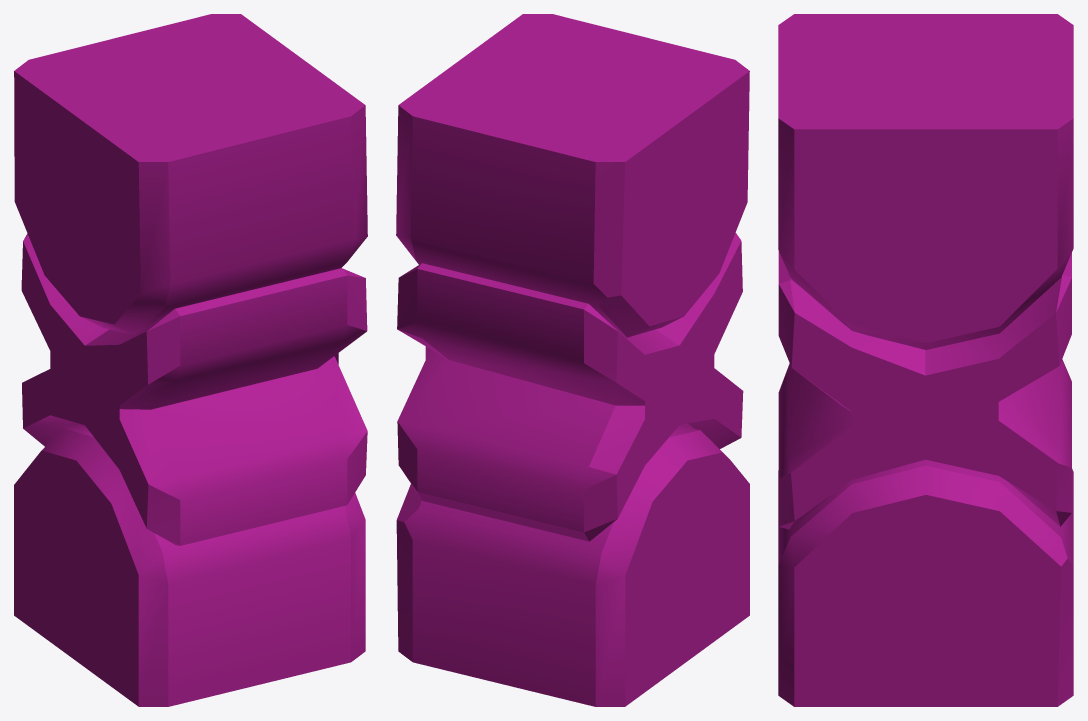
Rendered from ThreeBricksWithX_alpha.FBX.
The picture shows the model from 3 angles, left to right: view 1: azimuth 30°, elevation 25°; view 2: azimuth 150°, elevation 25°; view 3: azimuth 270°, elevation 25°; orthographic projection. The views are drawn at different scales.
Parts seen in each view (by area): view 1: Mid; view 2: Mid; view 3: Mid.
Boxes of the visible parts, bbox=[...] form: Mid: bbox=[14, 14, 367, 706]; Mid: bbox=[396, 14, 749, 706]; Mid: bbox=[778, 14, 1073, 706].
Size of the model in its own units: 17.56 by 39.8 by 18.45.
